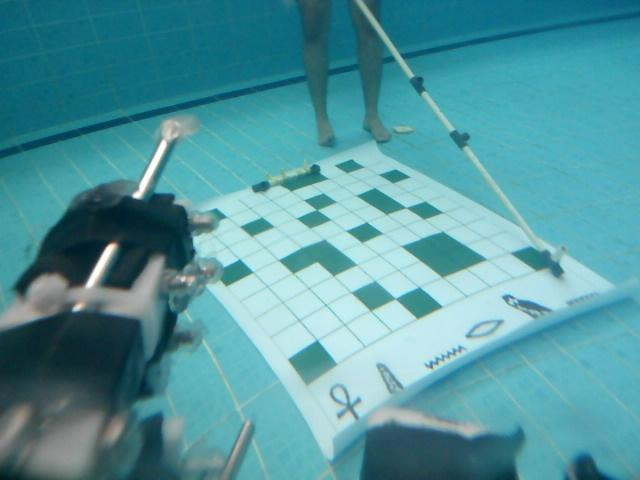Ankh: (325, 381, 365, 437)
Mouth: (464, 314, 506, 341)
Owl: (498, 293, 555, 323)
Reed: (374, 361, 412, 408)
Water: (424, 344, 465, 378)
